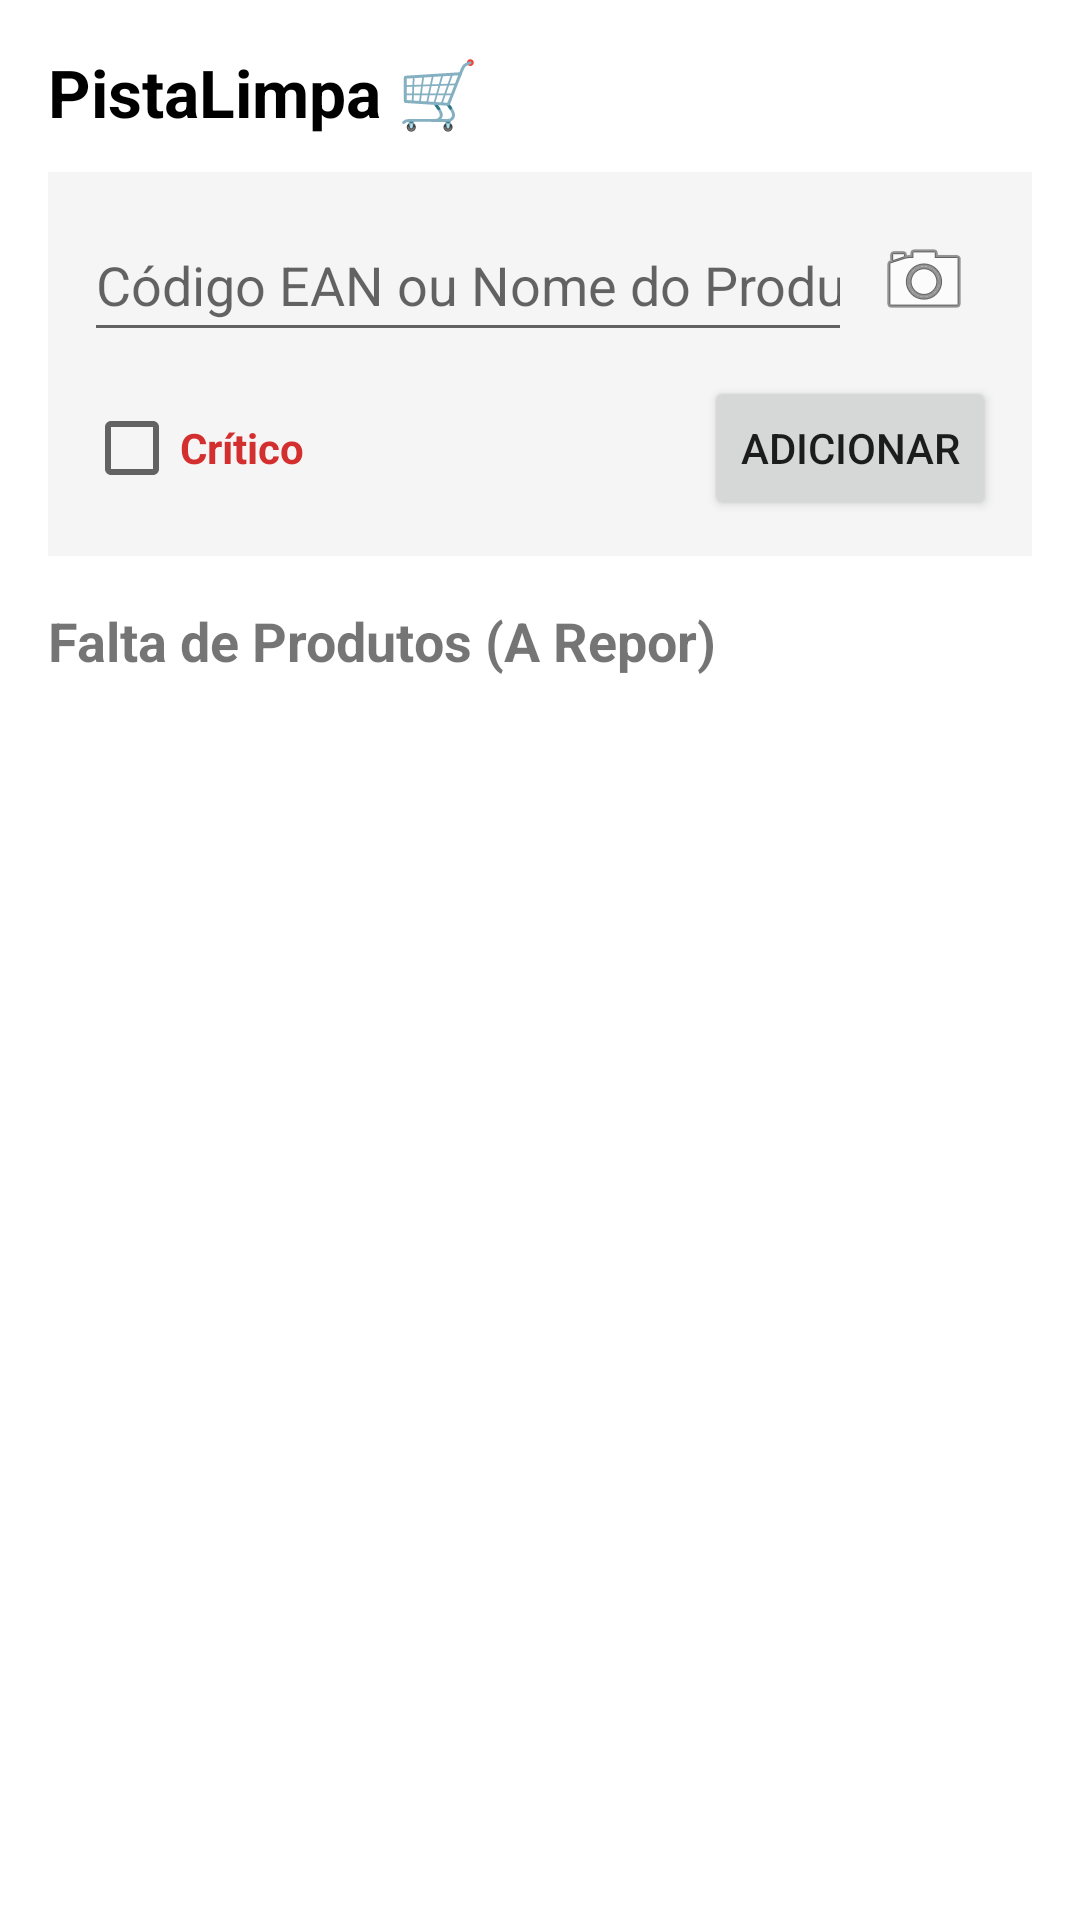

Locate icon controls on the screen. Image size 1080px x 1920px, boxes as (x1, y1, x2, y2).
Escanear Código: (887, 249, 961, 308)
